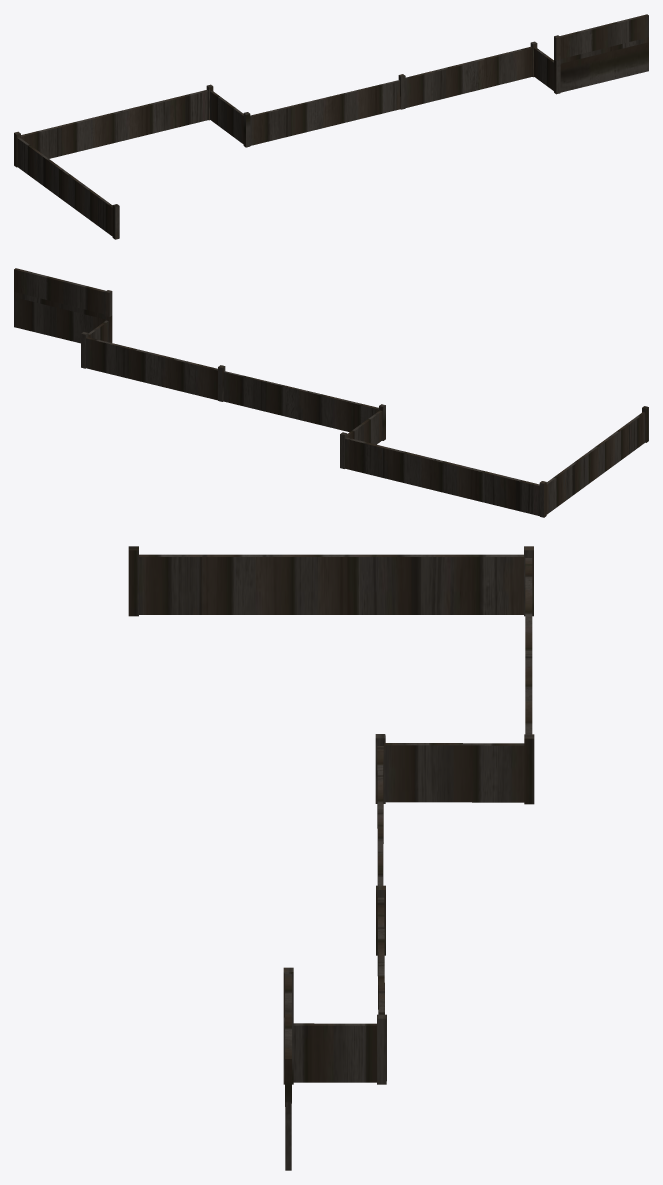
Rendered from LargeFence V0.96.fbx.
The picture shows the model from 3 angles, top to bottom: view 1: azimuth 30°, elevation 25°; view 2: azimuth 150°, elevation 25°; view 3: azimuth 270°, elevation 25°; orthographic projection. The views are drawn at different scales.
Parts seen in each view (by area): view 1: LargeFence.001; view 2: LargeFence.001; view 3: LargeFence.001.
Boxes of the visible parts, x1,y1,x2,y2 form: LargeFence.001: [14, 14, 648, 239]; LargeFence.001: [14, 268, 648, 517]; LargeFence.001: [128, 546, 534, 1170].
Bounding box in the file's own units: 5358 × 504 × 1642.
Materials: 1 (1 with a texture image).
